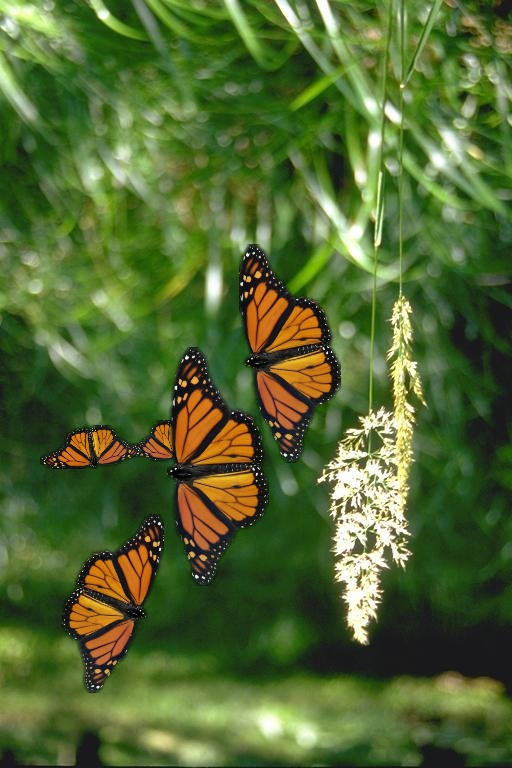danaus_plexippus: (167, 347, 269, 586), (239, 244, 341, 463), (62, 514, 164, 693), (40, 425, 142, 469), (128, 420, 230, 462)
